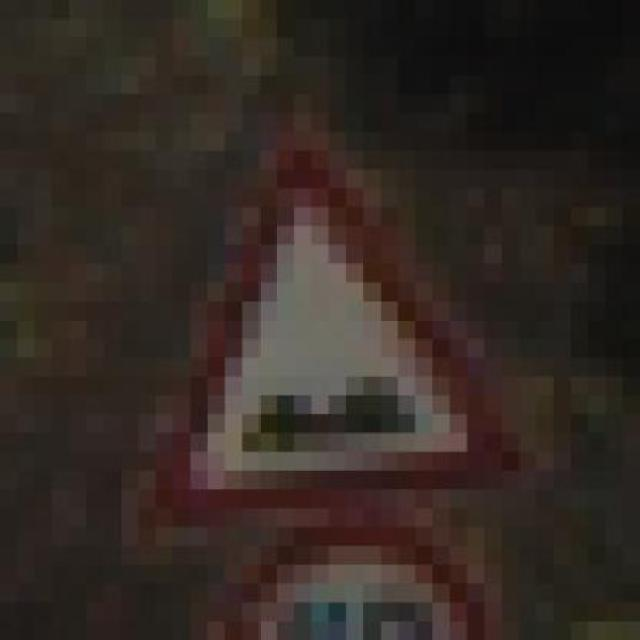Uneven Road: (121, 75, 536, 528)
